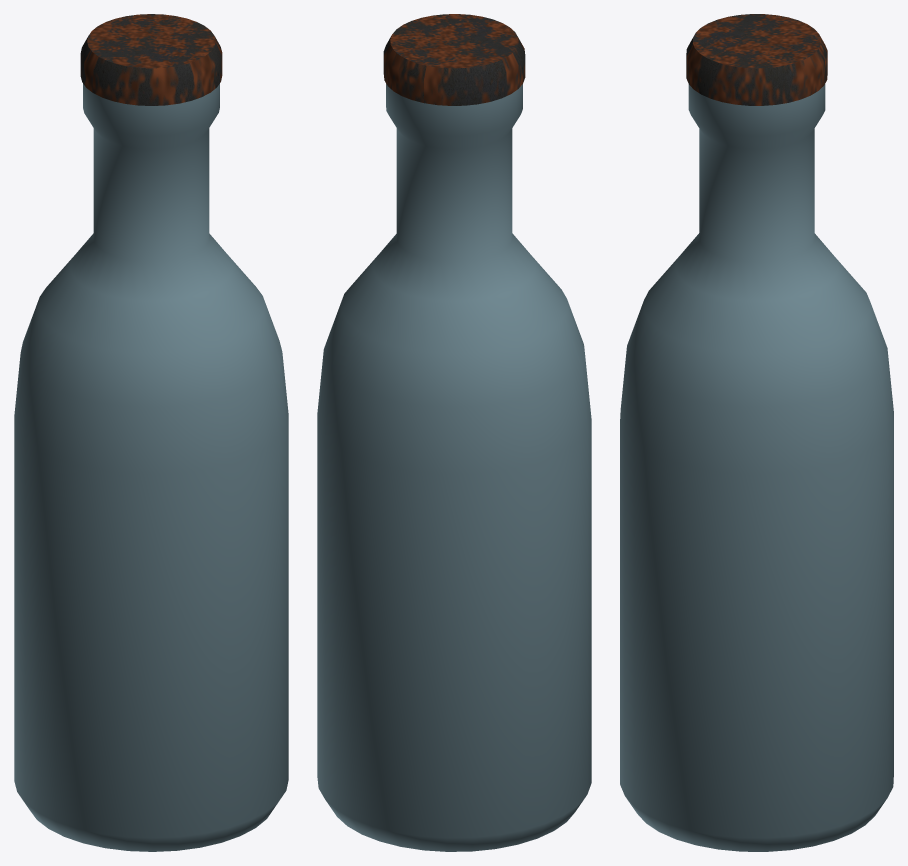
Rendered from SM_Bottle_c18fcec220.fbx.
3 views of the same model, side by side, from view 1: azimuth 30°, elevation 25°; view 2: azimuth 150°, elevation 25°; view 3: azimuth 270°, elevation 25° (orthographic).
Visible parts, largest first — view 1: SM_Bottle_c18fcec220; view 2: SM_Bottle_c18fcec220; view 3: SM_Bottle_c18fcec220.
Part boxes in pixels (box(x1,y1,x2,y2)): SM_Bottle_c18fcec220: box(14, 14, 288, 851); SM_Bottle_c18fcec220: box(317, 14, 591, 851); SM_Bottle_c18fcec220: box(620, 14, 893, 851).
Size of what is drawn, in the model's own units: 12.76 by 12.76 by 39.4.
Materials: 2 (1 with a texture image).
